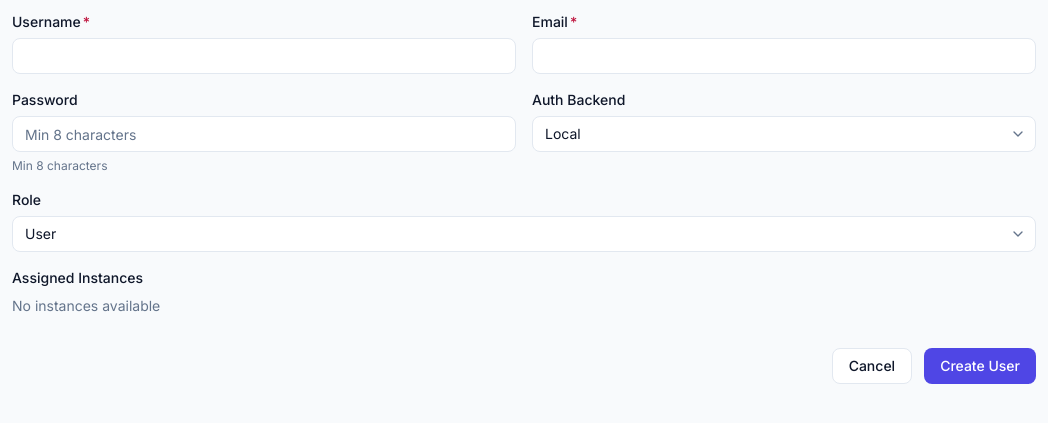
Forms — react-hook-form + zod validation › UserCreateForm blocks submit and shows an error for an invalid email
The width and height of the screenshot is (1048, 423).
Type "jane" into the field labelled "Username" at coordinates (264, 56), box [12,38,516,74]
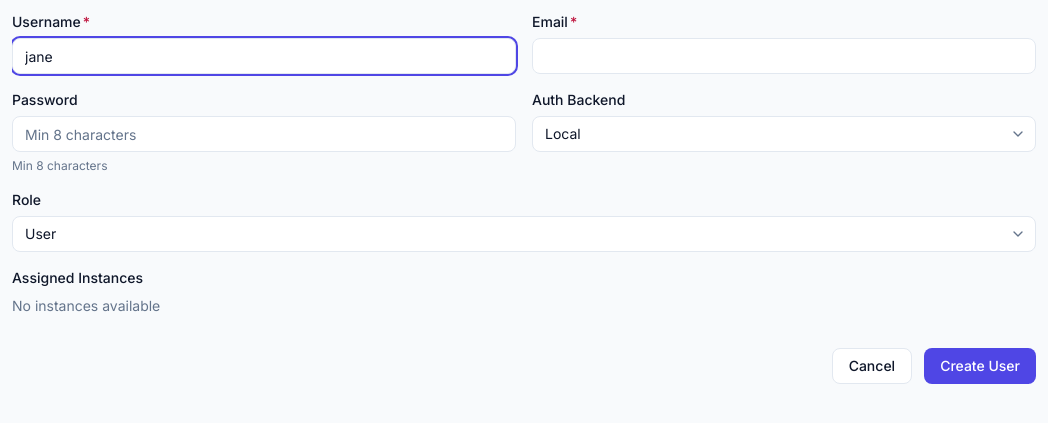
Type "not-an-email" into the field labelled "Email" at coordinates (784, 56), box [532,38,1036,74]
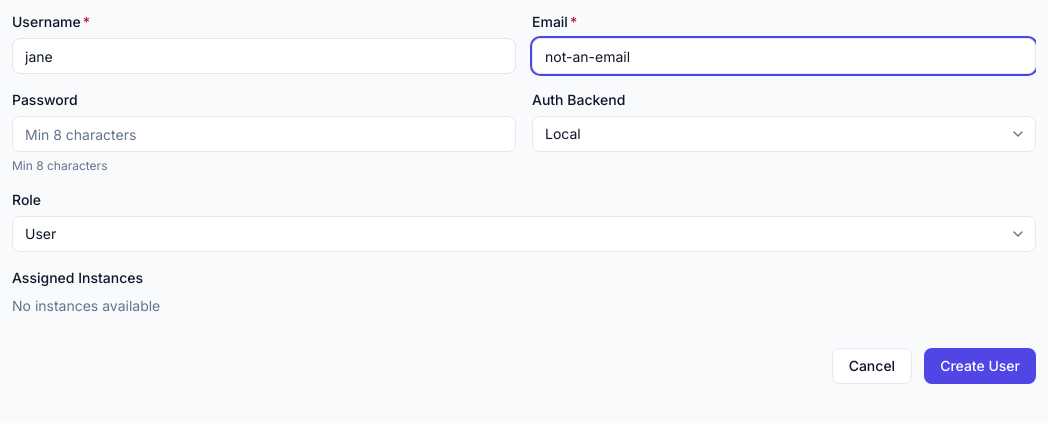
Click the button "Create User" at coordinates (980, 366), box [924,348,1036,384]
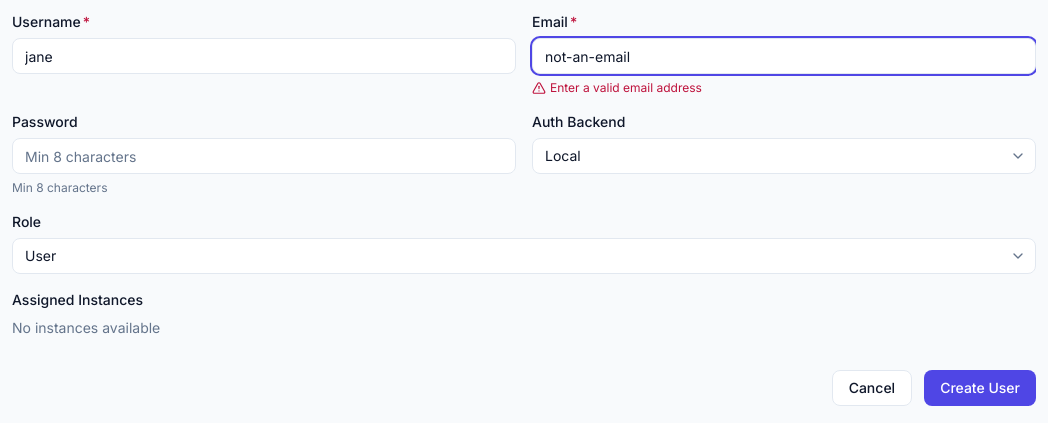
Check: the text "Enter a valid email address" is shown, box [532,80,702,95]
